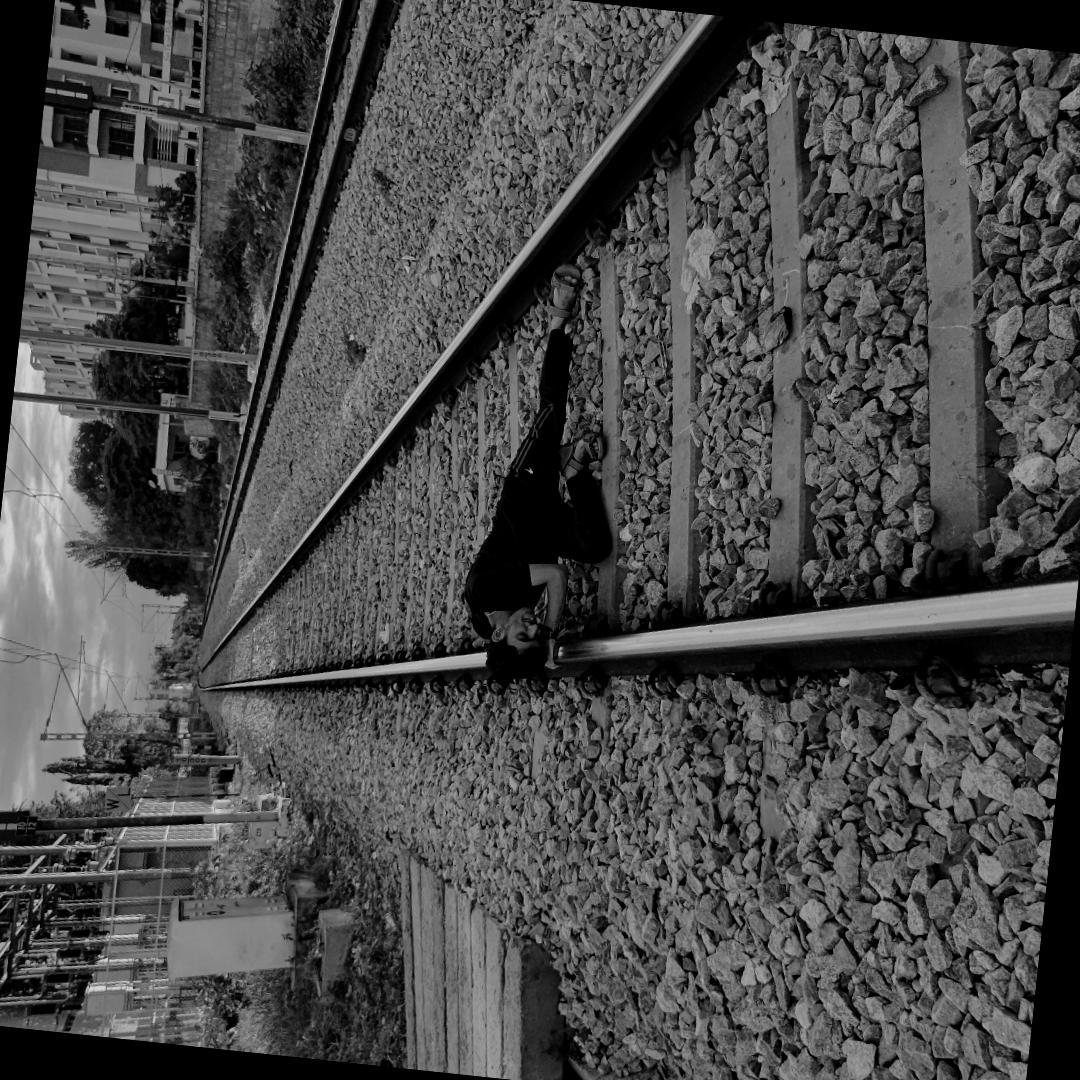sleeping: (454, 253, 632, 694)
